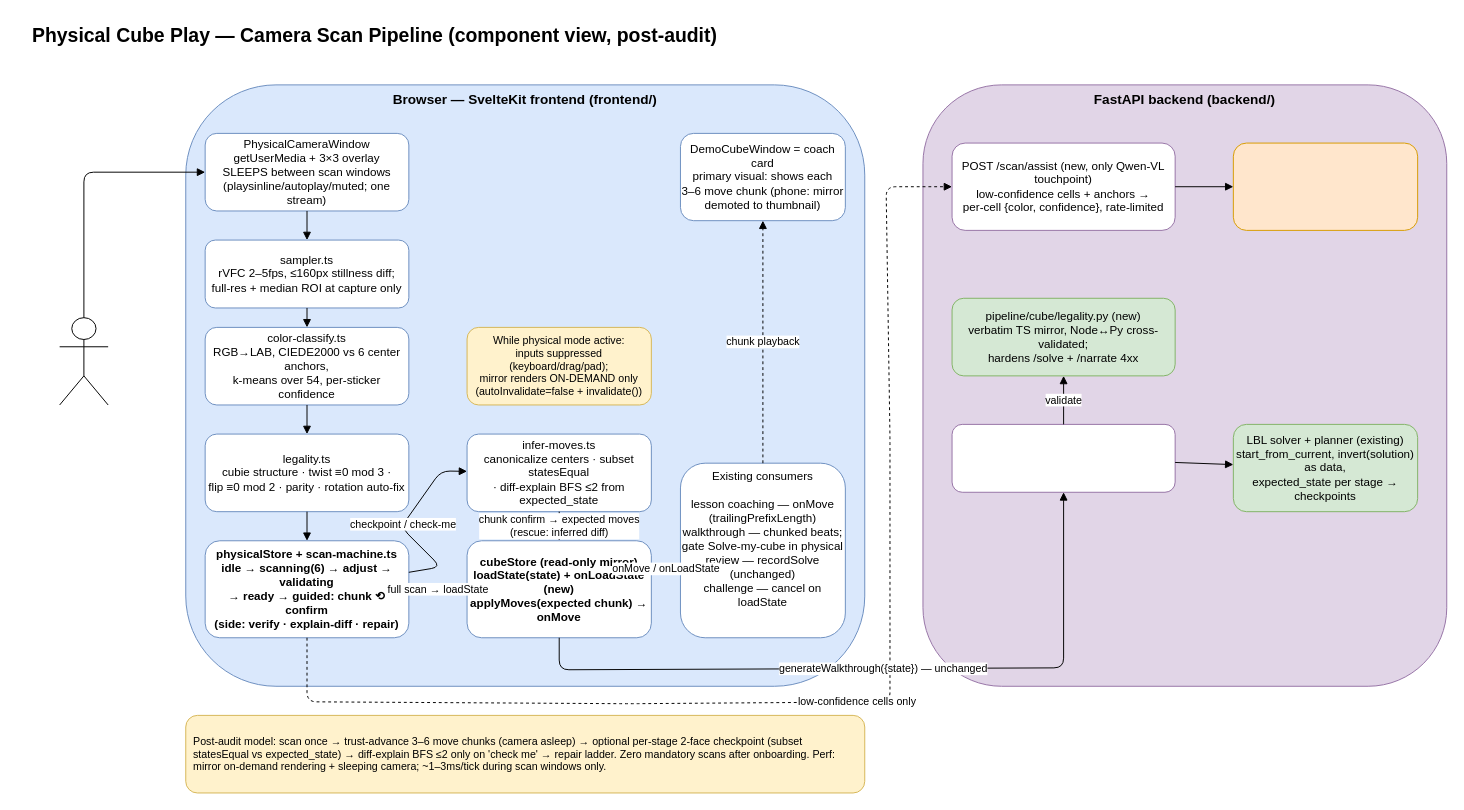
This 1464x810 diagram has some shape labels left out. The shapes that lost their labels are listed below. From the top down, each one's centre as x and y in pixels, then its label:
At pixel 1325 186: "Qwen-VL qwen3-vl-plus, JSON mode (DashScope compatible-mode)".
At pixel 83 361: "Learner + physical cube".
At pixel 1063 457: "POST /solve · /narrate/* (existing) already accept a full State".
